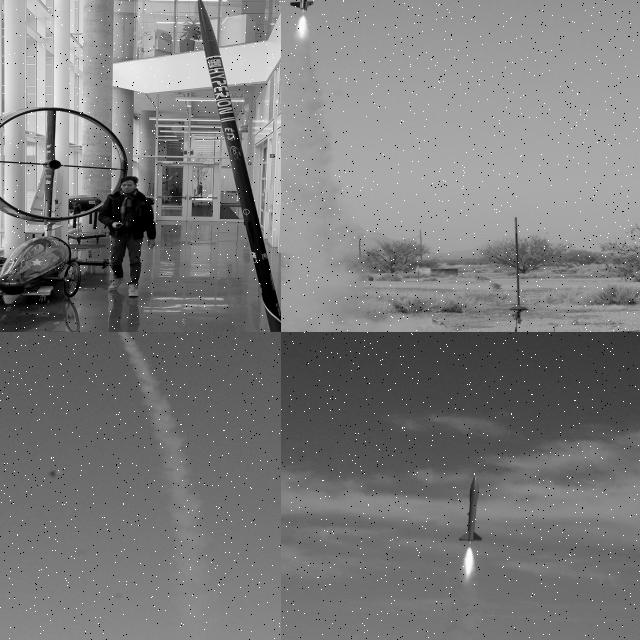Rocket: (197, 0, 281, 332), (458, 476, 484, 542)
